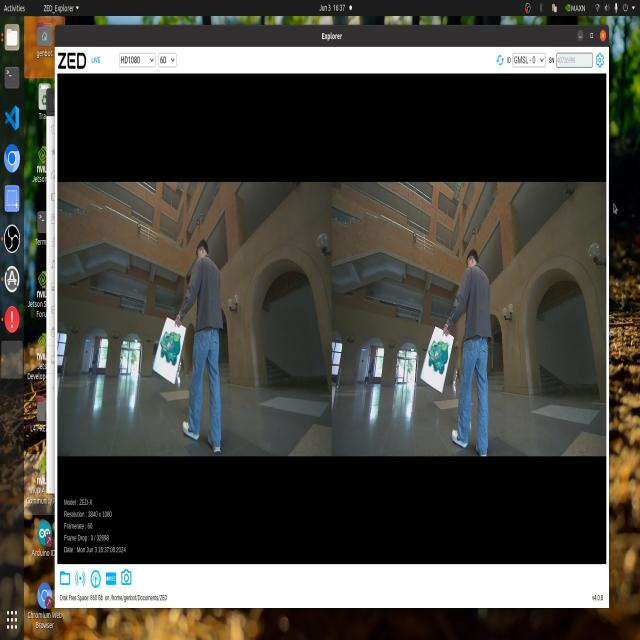green: (160, 328, 188, 381), (427, 331, 447, 385)
